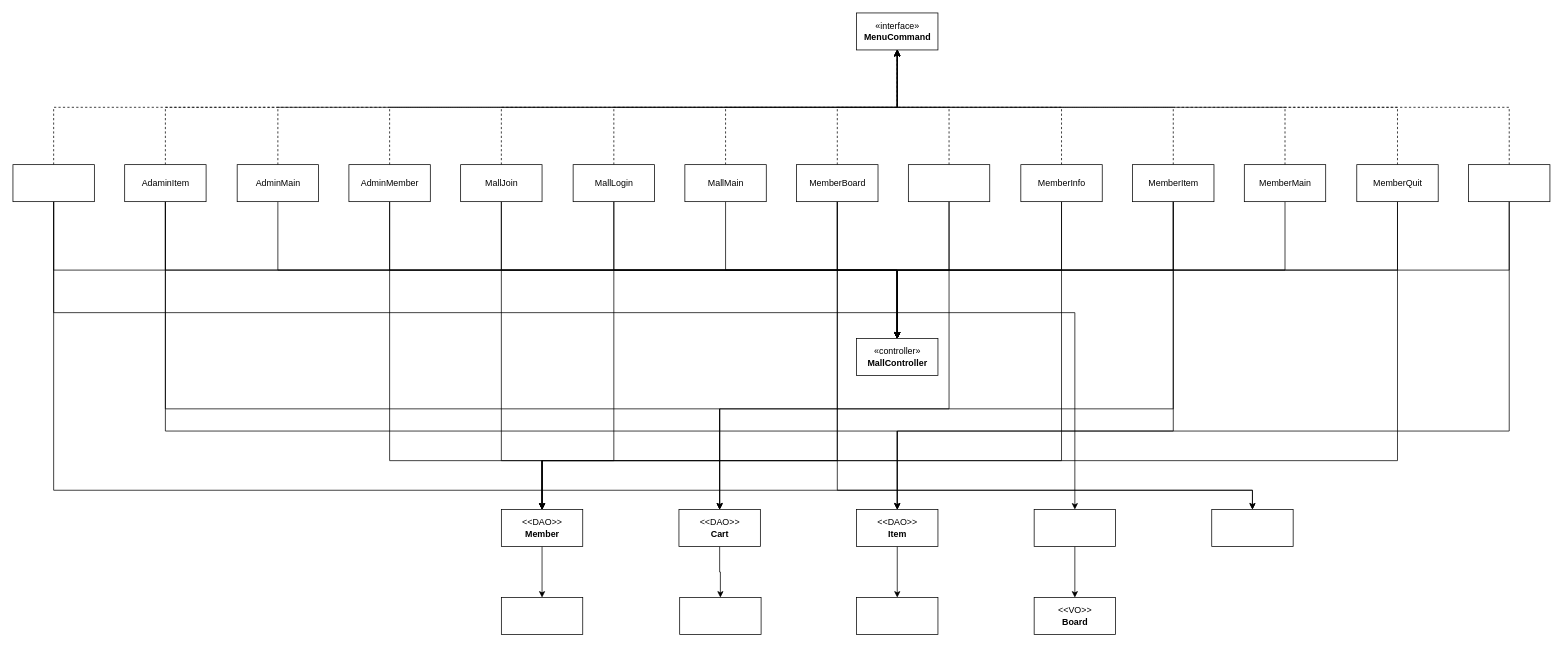
This 1563x648 diagram has some shape labels left out. The shapes that lost their labels are listed below. From the top down, each one's centre as x and y in pixels, then its label:
At point (53, 183): "AdminBoard".
At point (949, 183): "MemberCart".
At point (1509, 183): "MemberShopping".
At point (1074, 527): "<<DAO>> Board".
At point (1252, 527): "<<DAO>> FIle".
At point (542, 616): "<<VO>> Member".
At point (720, 616): "<<VO>> Cart".
At point (897, 616): "<<VO>> Item".
